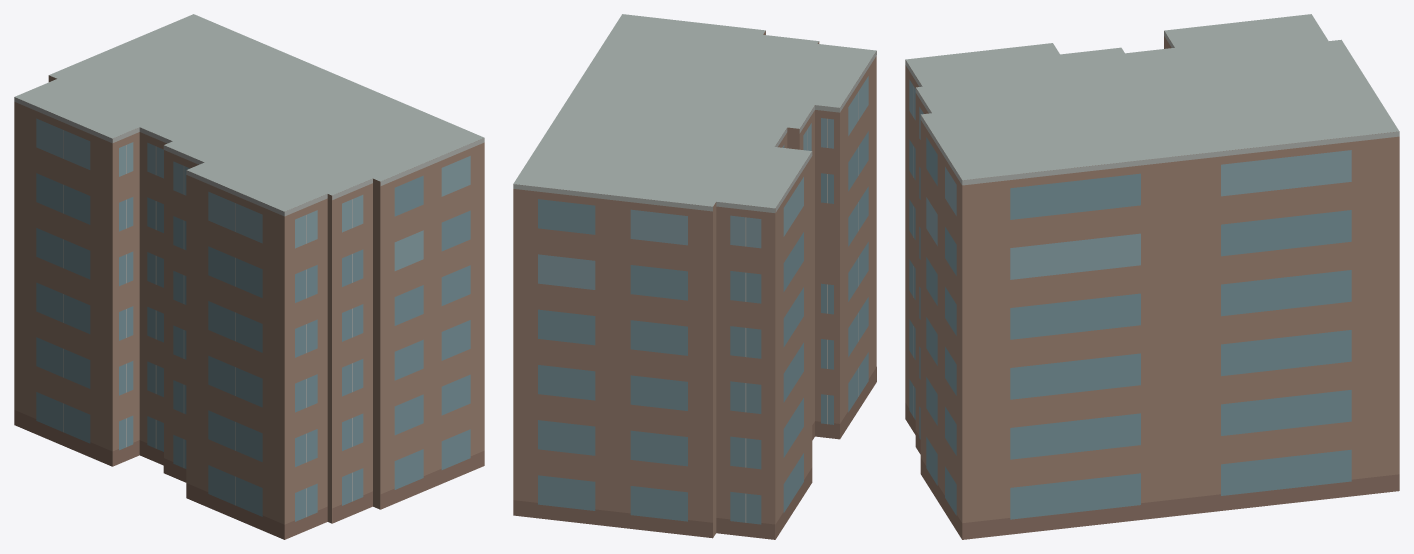
Rendered from survey-upis-32491232.glb.
3 renders of one model, left to right at view 1: azimuth 30°, elevation 25°; view 2: azimuth 150°, elevation 25°; view 3: azimuth 270°, elevation 25°, orthographic. The views are drawn at different scales.
Parts seen in each view (by area): view 1: survey-upis-32491232.tmp; view 2: survey-upis-32491232.tmp; view 3: survey-upis-32491232.tmp.
Boxes of the visible parts, <box> form: survey-upis-32491232.tmp: <box>14,14,484,539</box>; survey-upis-32491232.tmp: <box>513,14,876,539</box>; survey-upis-32491232.tmp: <box>905,14,1399,539</box>.
Size of the model in its own units: 16.82 by 16.95 by 21.12.
